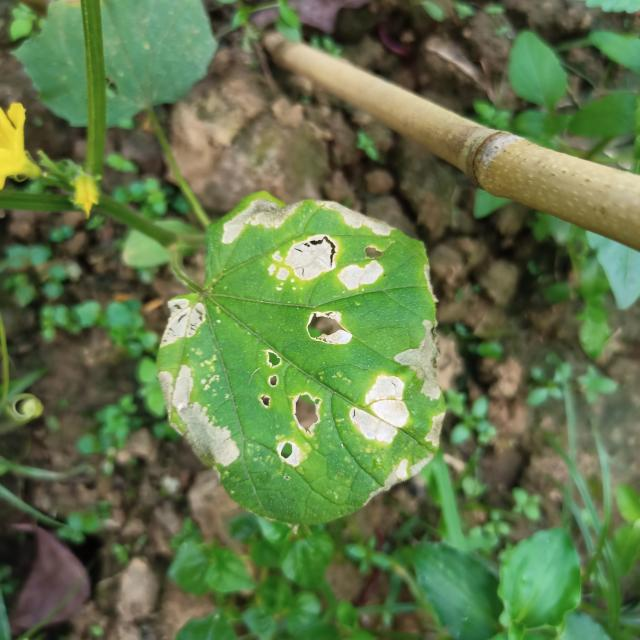disease_cucumber: (280, 298, 448, 500), (153, 293, 280, 478), (220, 189, 399, 297)
